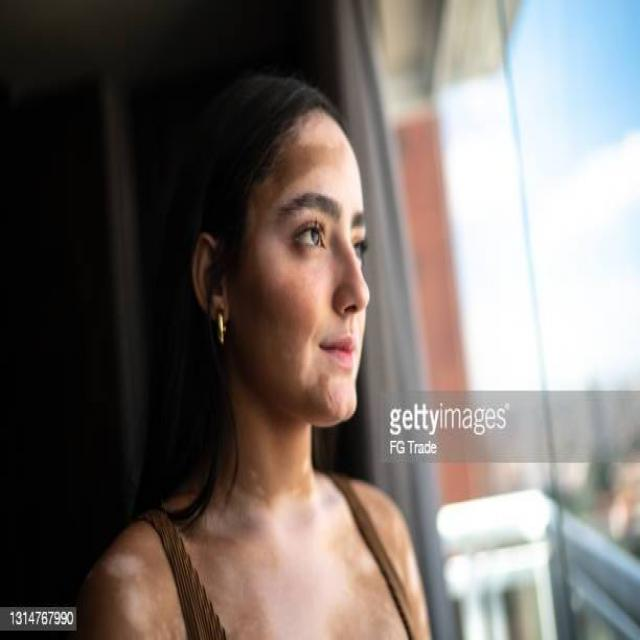vitiligo: (206, 426, 373, 640), (305, 127, 354, 204)
